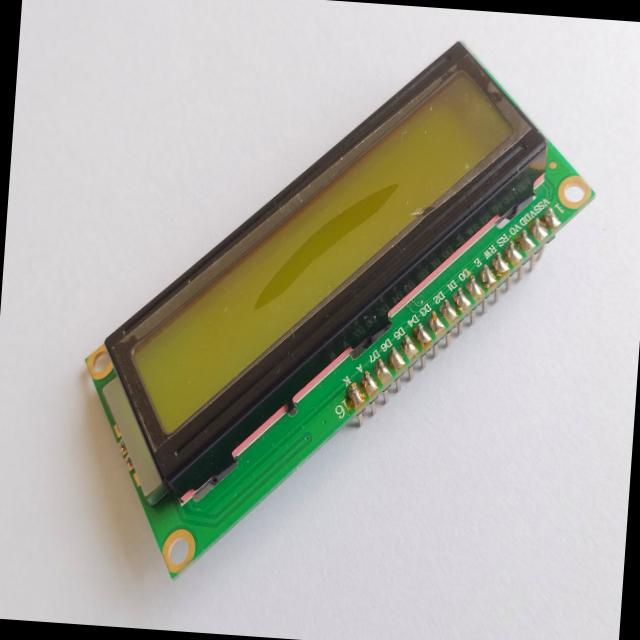lcd: (64, 12, 614, 615)
